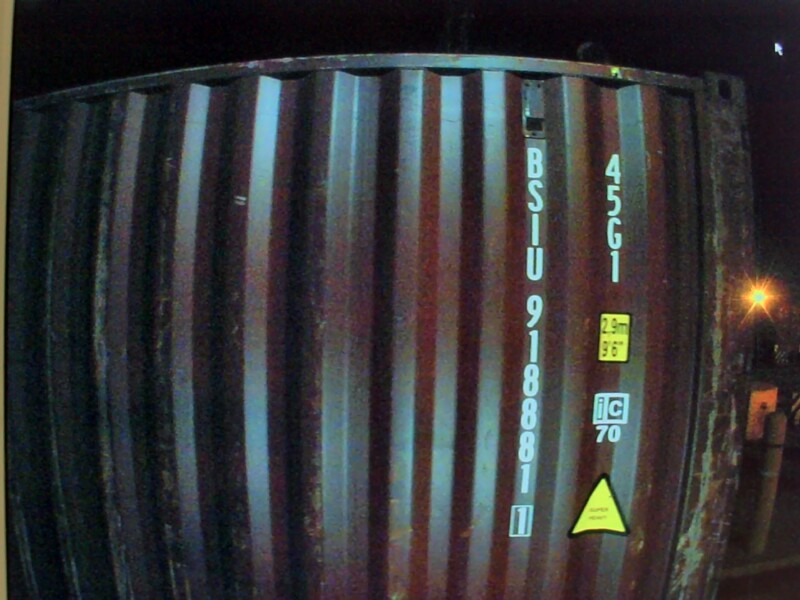container_no_door: (91, 53, 653, 592)
